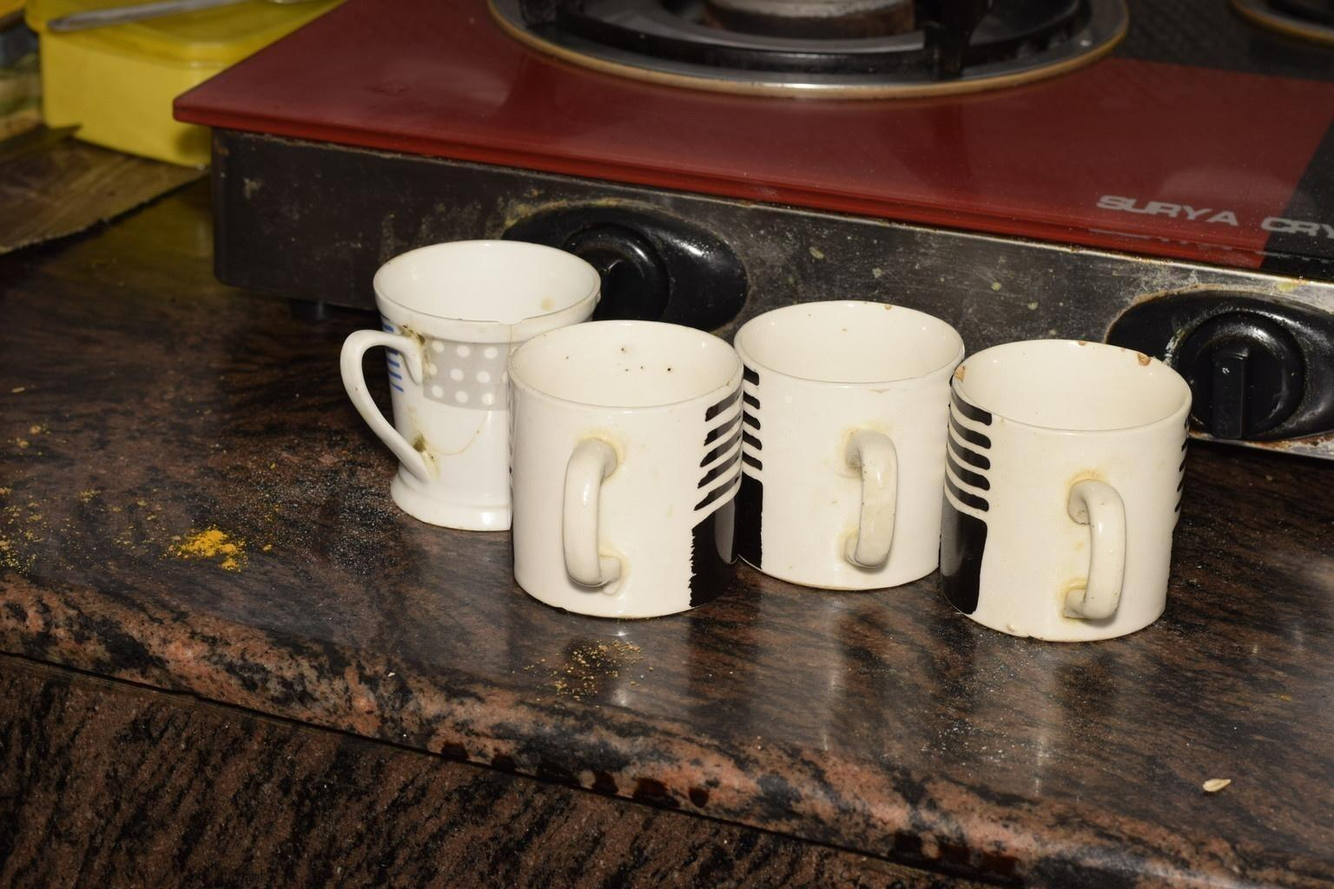cup-handle: (940, 336, 1196, 645), (337, 236, 603, 533), (505, 322, 748, 622), (733, 293, 970, 595)
